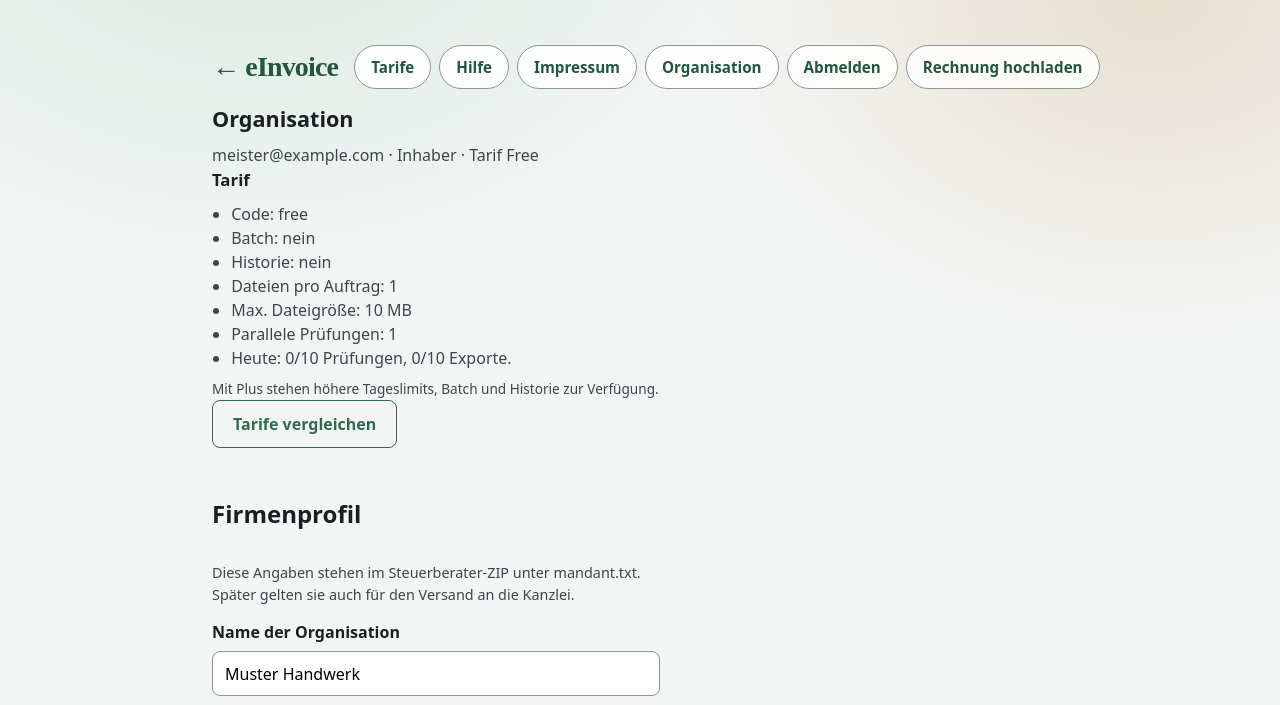
Test case: OrgSettingsPage › loads and saves the firm profile
Replace the text in the field labelled "Name der Organisation" with "Muster Handwerk GmbH" at (436, 674), box left=212, top=651, right=660, bottom=696
(page scrolled)
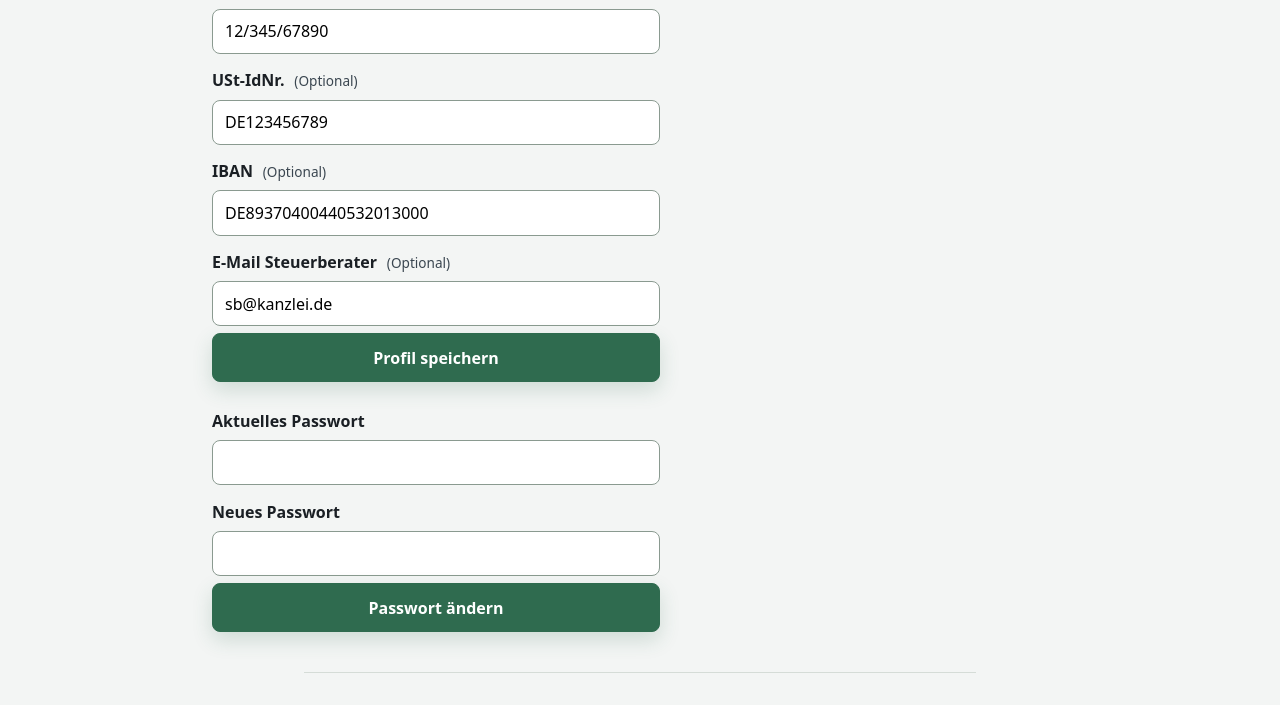
Click the button "Profil speichern" at (436, 358), box left=212, top=334, right=660, bottom=382
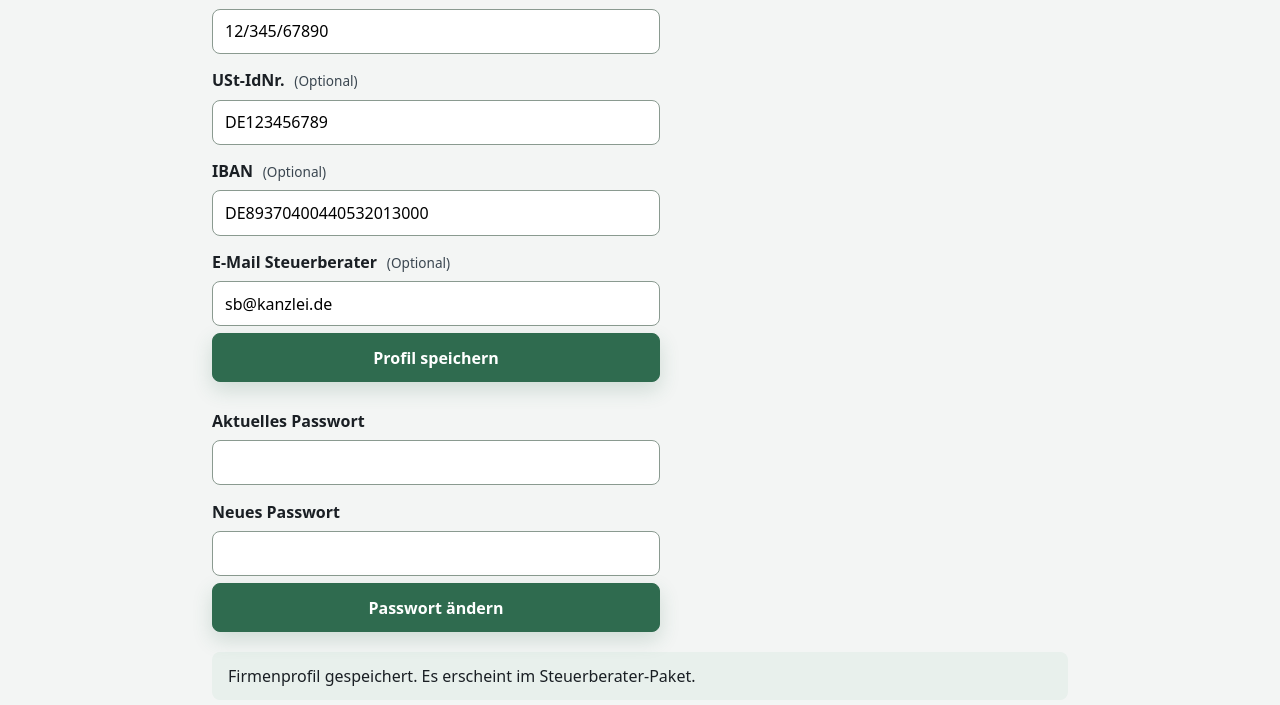
Check: the text "Firmenprofil gespeichert. Es erscheint im Steuerberater-Paket." is shown, box left=212, top=652, right=1068, bottom=700
